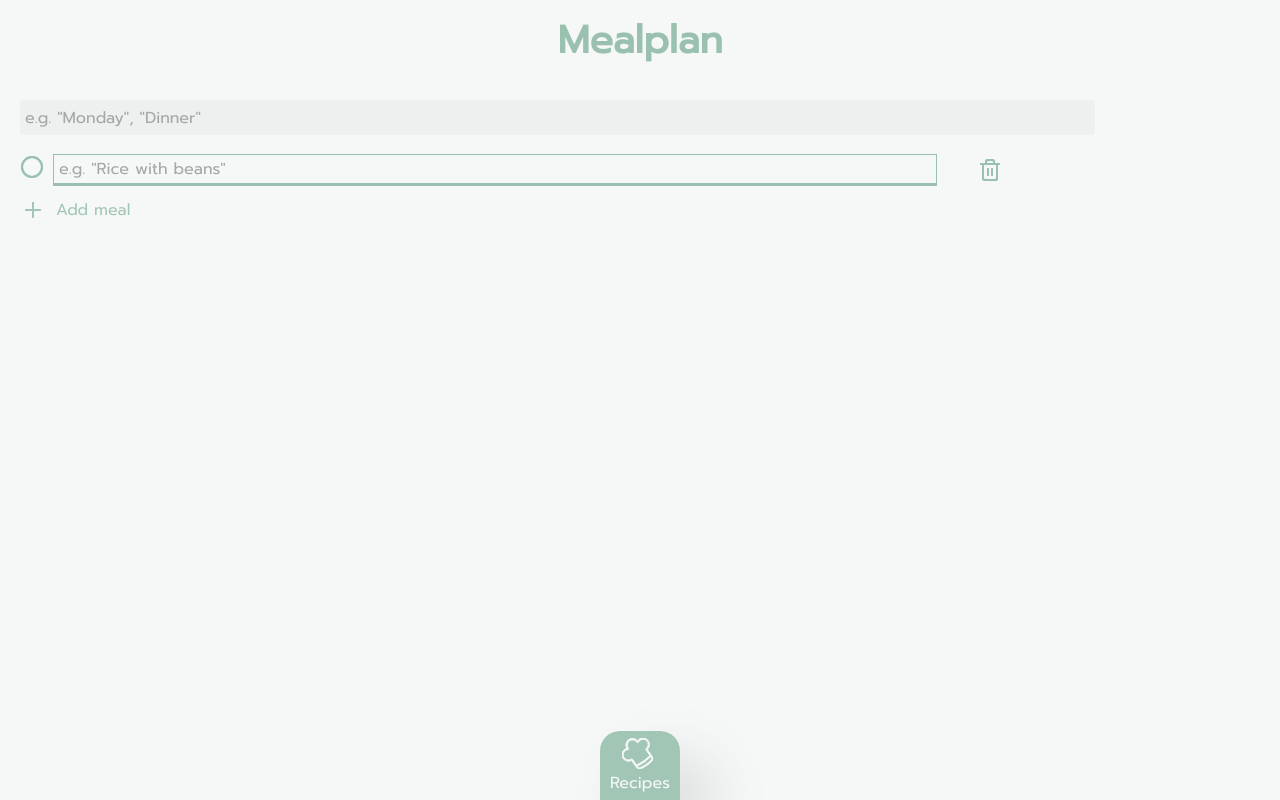
Test: MealplanList › adds an empty meal input after pressing enter
Type "Burritos" into the field with placeholder "e.g. \"Rice with beans\"" at [495, 170], box top-left (54, 155), bottom-right (936, 185)
Click the button named "addbutton" at [93, 210], box top-left (20, 195), bottom-right (980, 225)
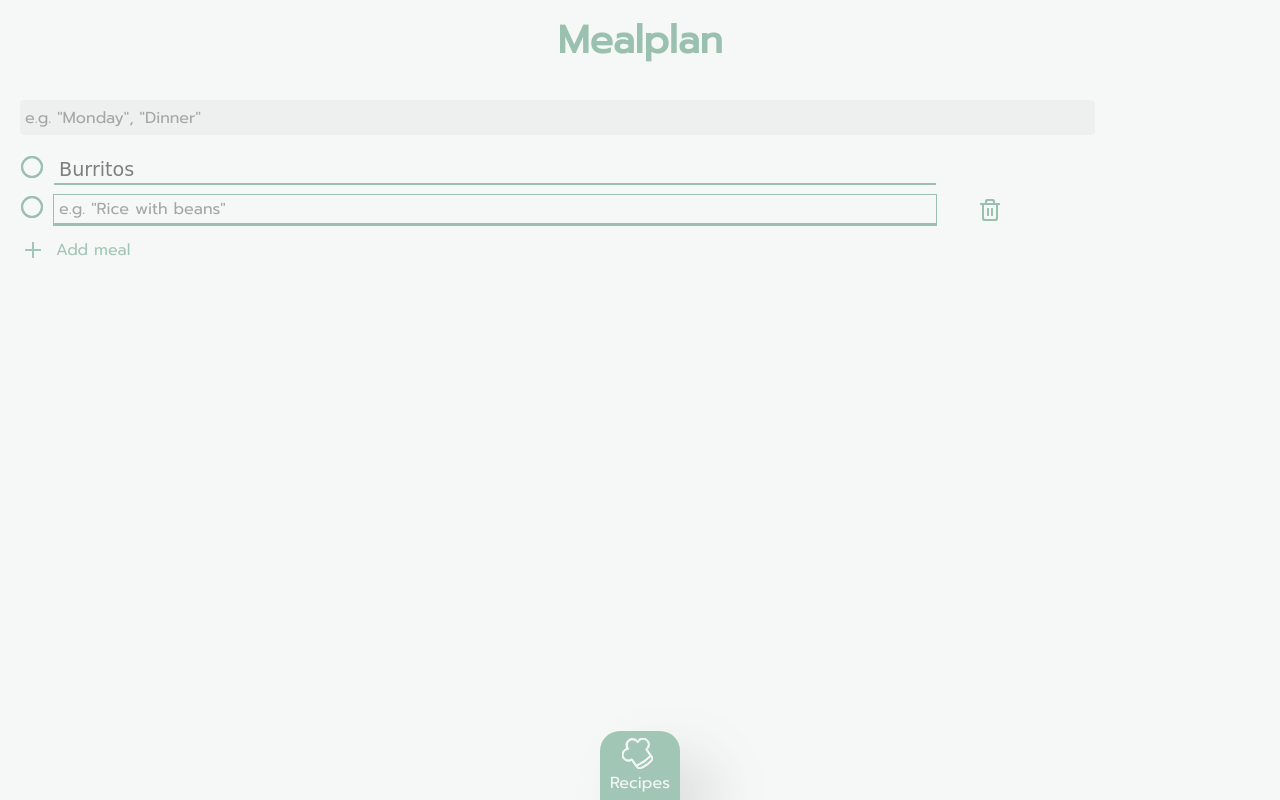
Type "Falafel Wrap" into the field with placeholder "e.g. \"Rice with beans\"" at [495, 210], box top-left (54, 195), bottom-right (936, 225)
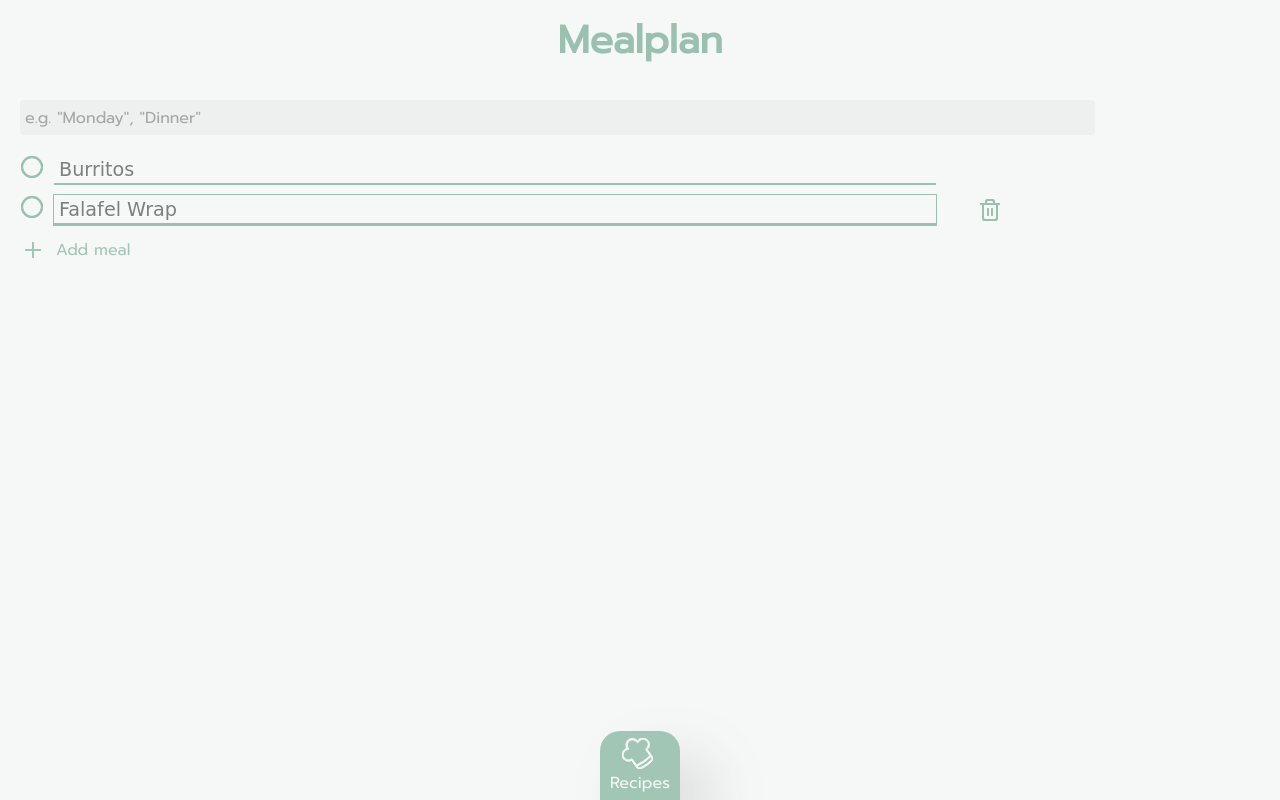
Click the button named "addbutton" at [93, 250], box top-left (20, 235), bottom-right (980, 265)
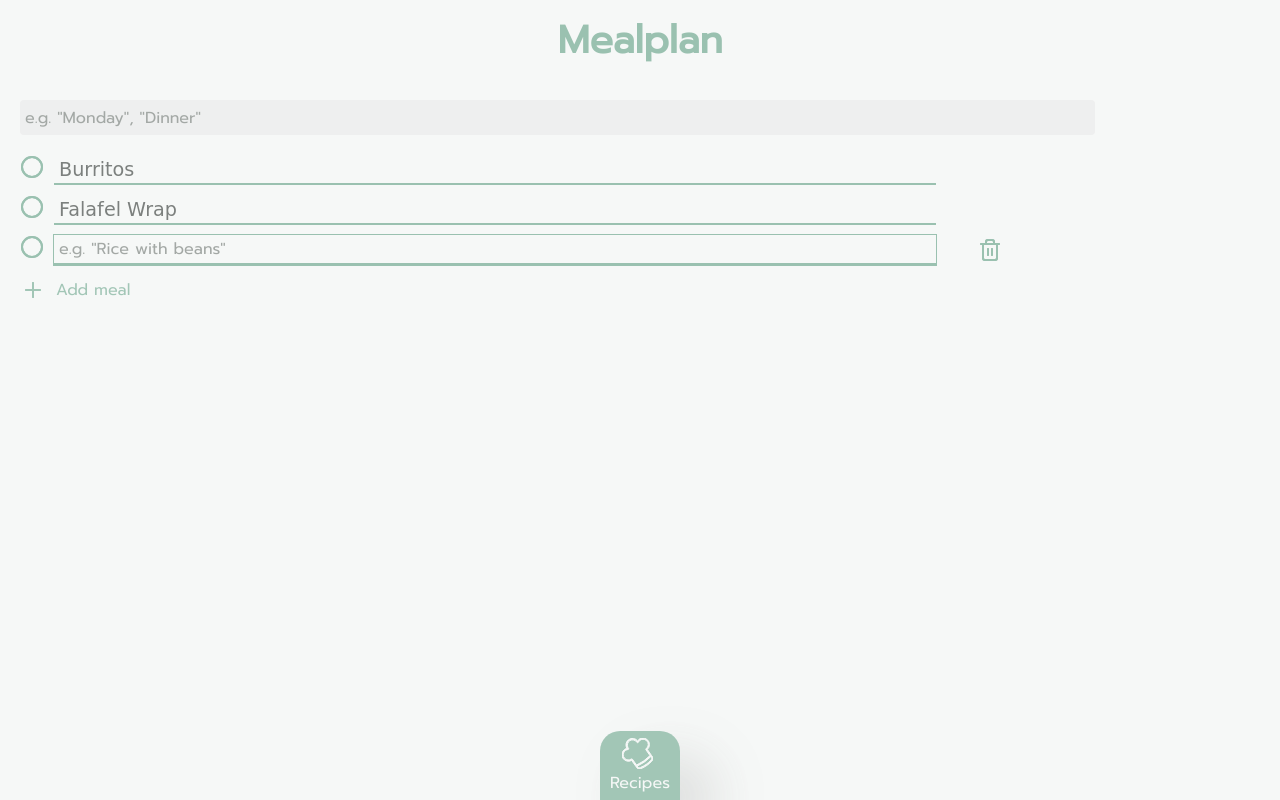
Type "Yakisoba" into the field with placeholder "e.g. \"Rice with beans\"" at [495, 250], box top-left (54, 235), bottom-right (936, 265)
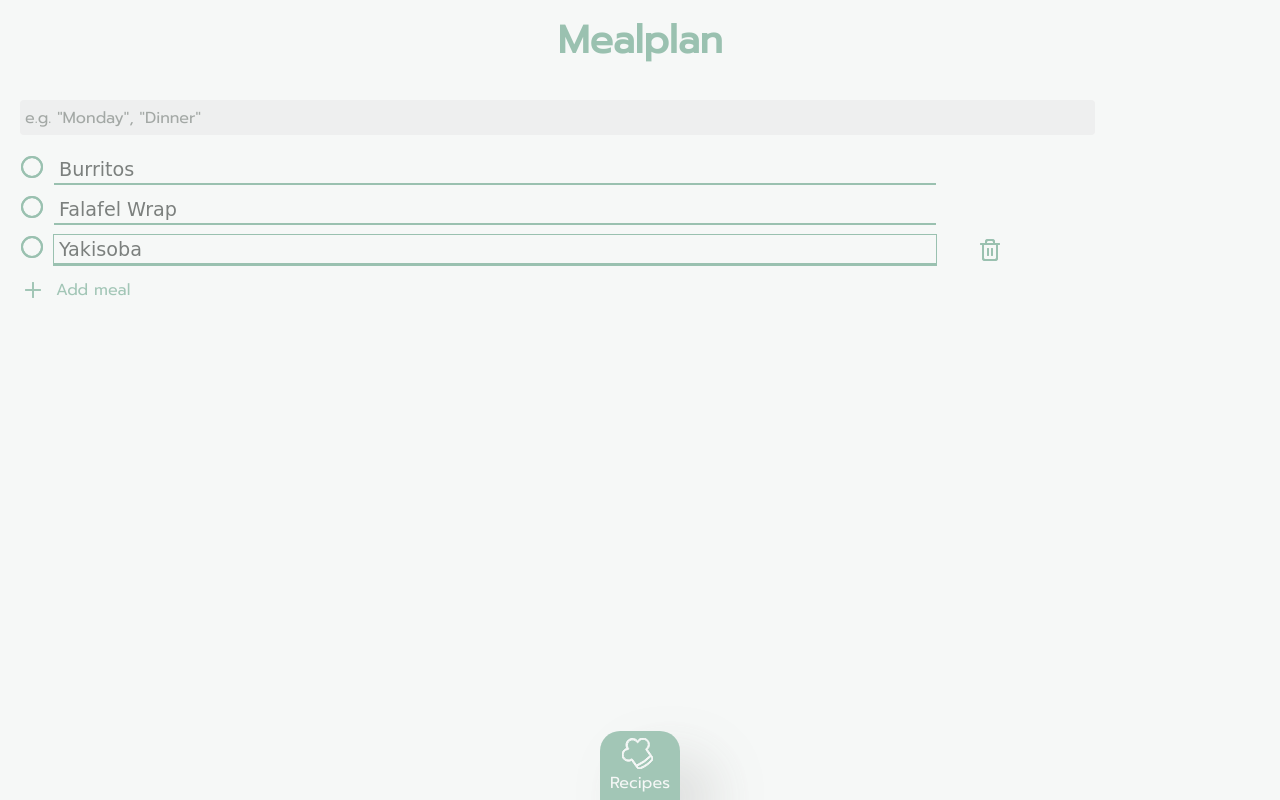
Press Enter in the 3rd field, box top-left (54, 195), bottom-right (936, 225)
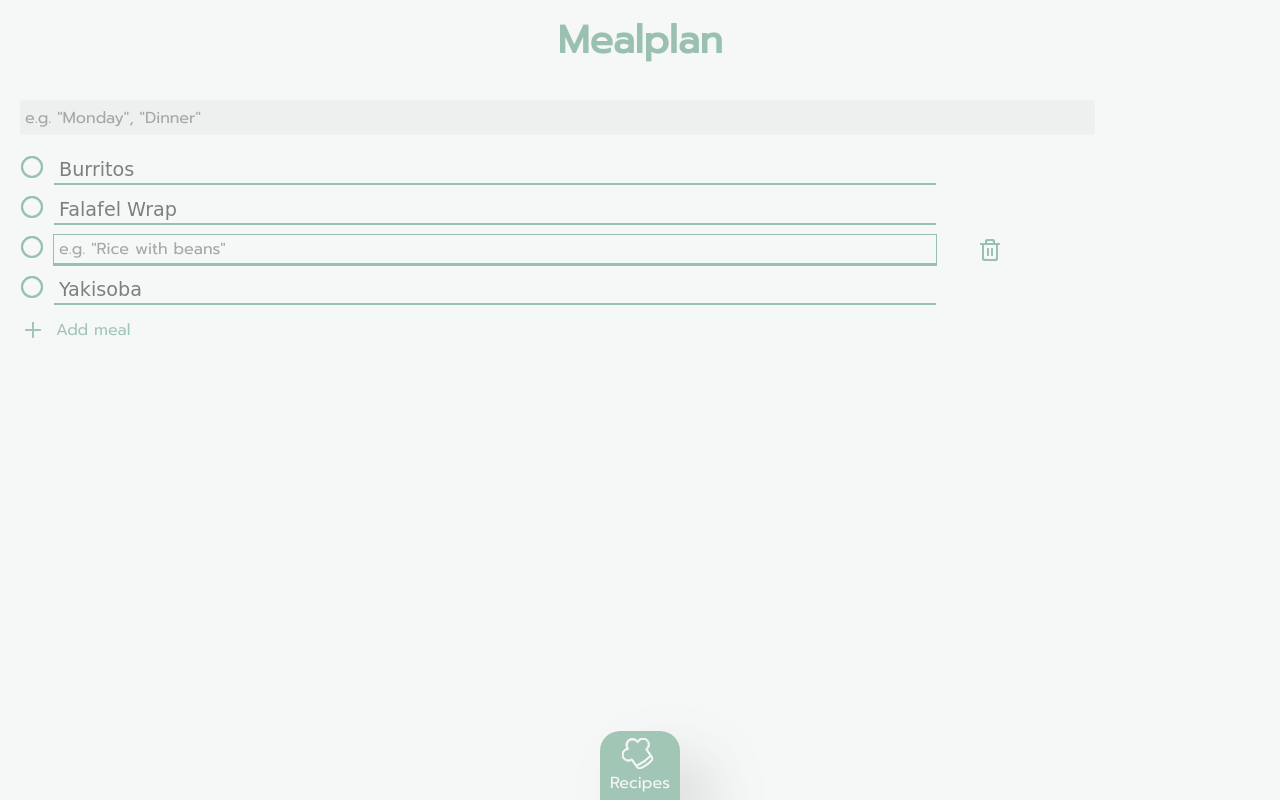
Press Schnitzel
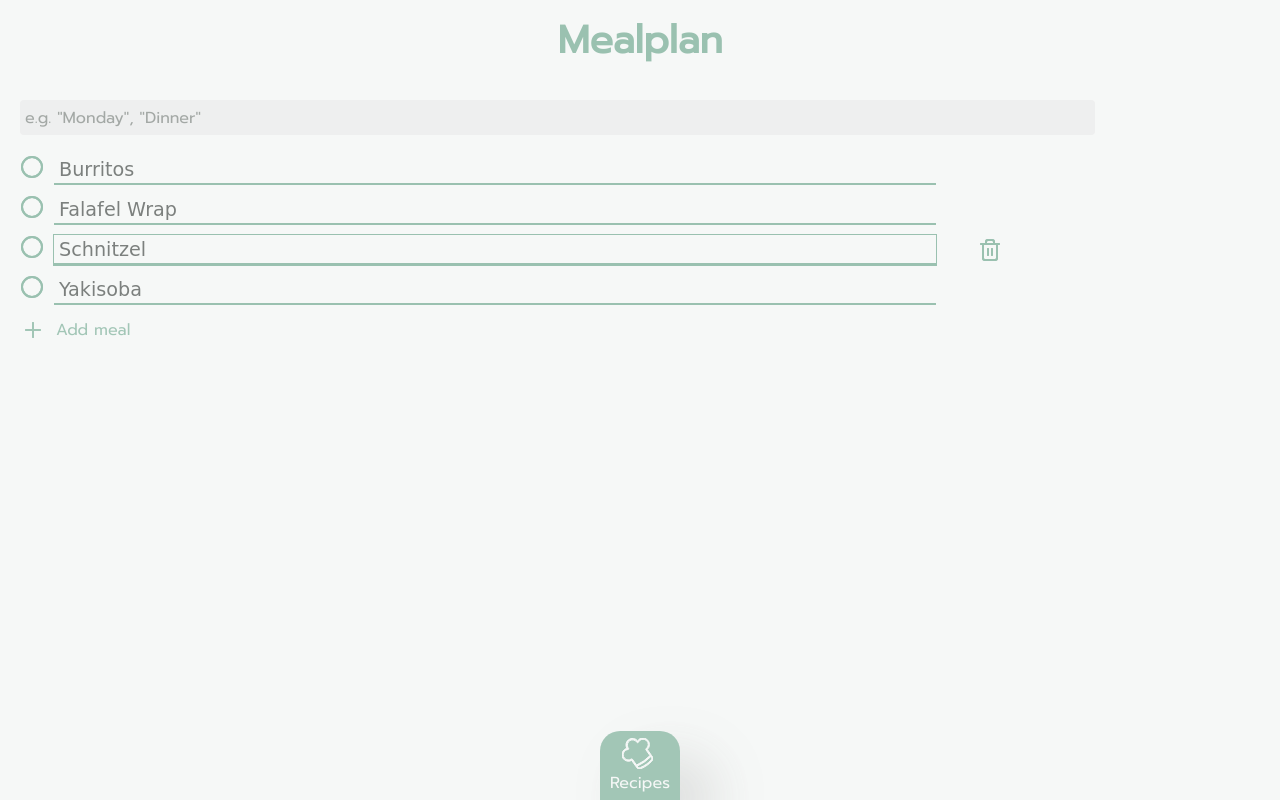
Check: the 4th field holds "Schnitzel", box top-left (54, 235), bottom-right (936, 265)
